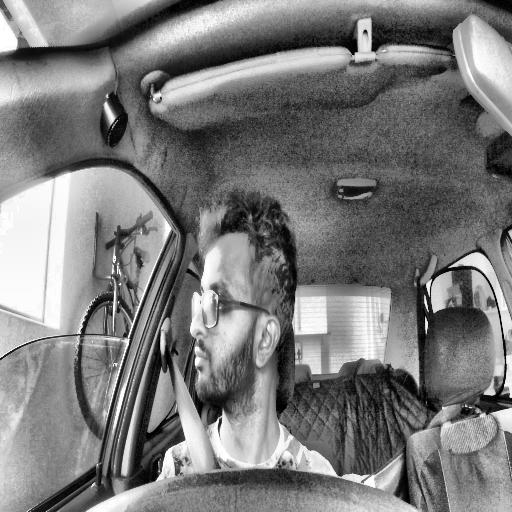awake: (190, 196, 296, 406)
